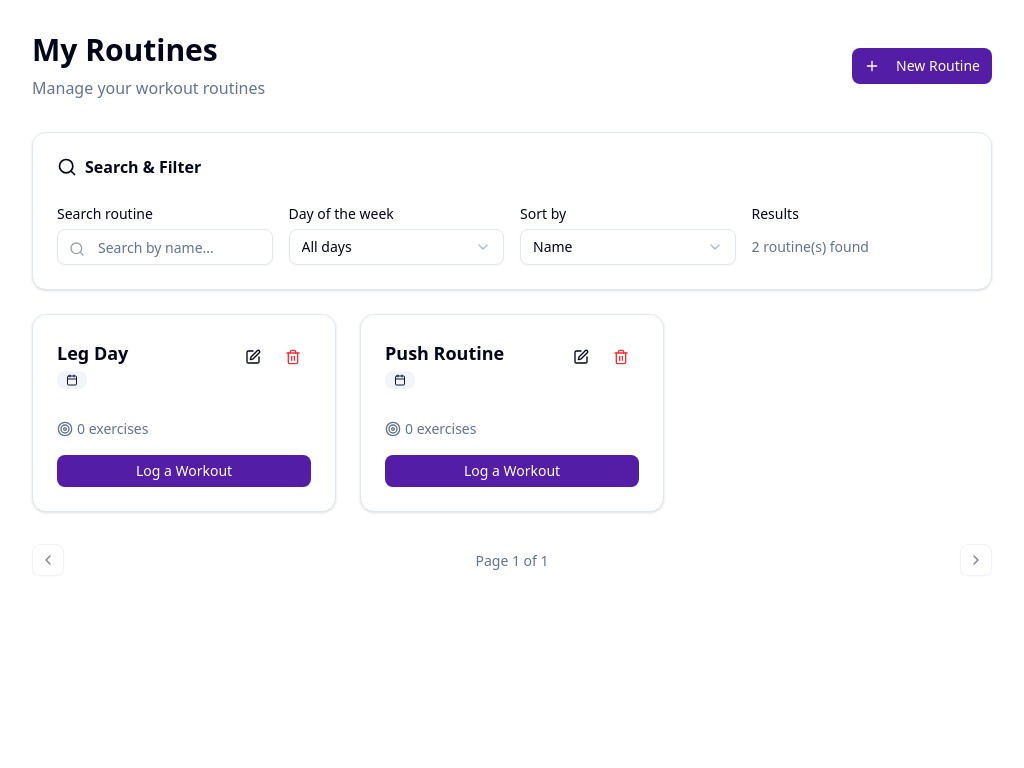
Scenario: <RoutinesPage /> › filters by search input
This screenshot has width=1024, height=768.
In the field with placeholder "Search by name...": (165, 247) [57,229,272,265], type "Leg"
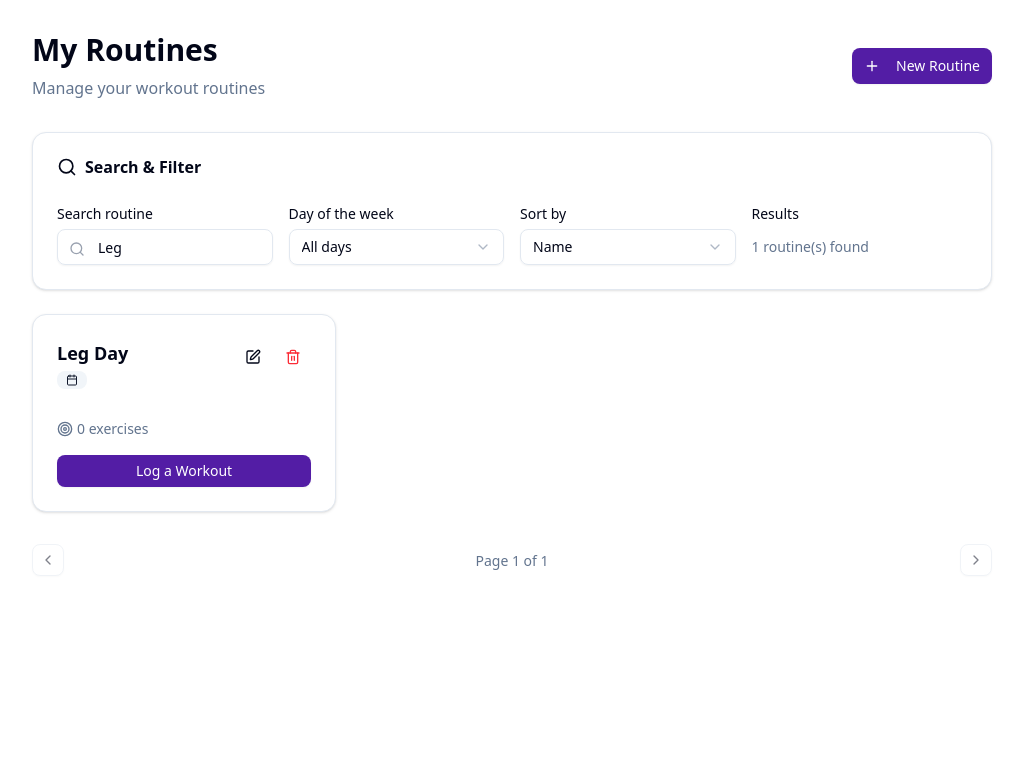
Expected: the text "Leg Day" is shown, [57,339,128,367]
Now the text "Push Routine" is gone
